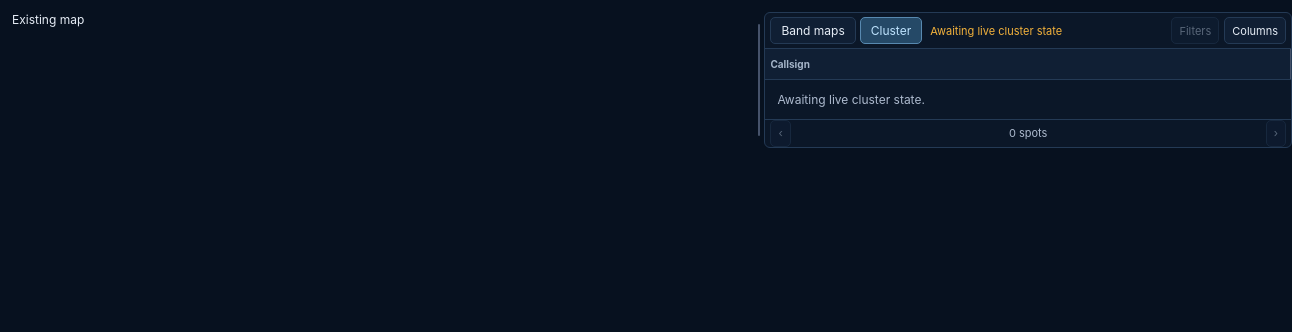
Test: operator workspace › keeps at least one visible column and allows restricted local storage
Click the button "Columns". click: click(1255, 30)
box: [1224, 17, 1286, 44]
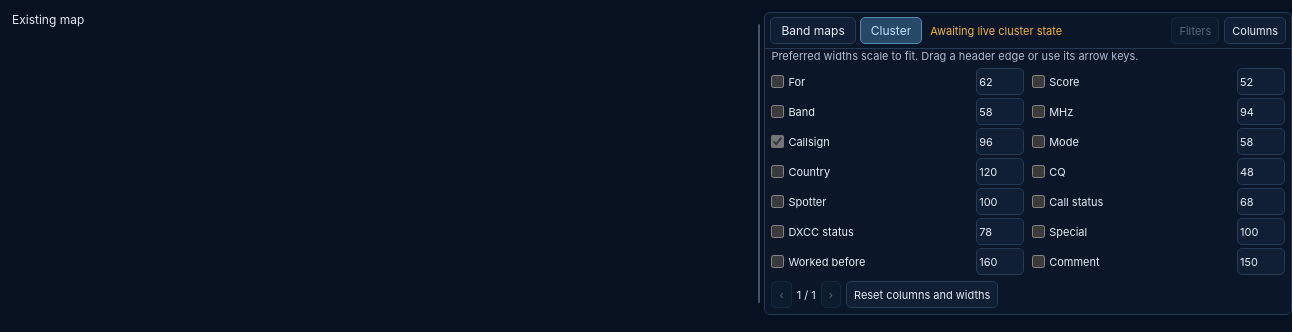
Now the checkbox named "Show Callsign column" is disabled, box [771, 128, 784, 155]
Click the button "Columns". click: click(1255, 30)
box: [1224, 17, 1286, 44]
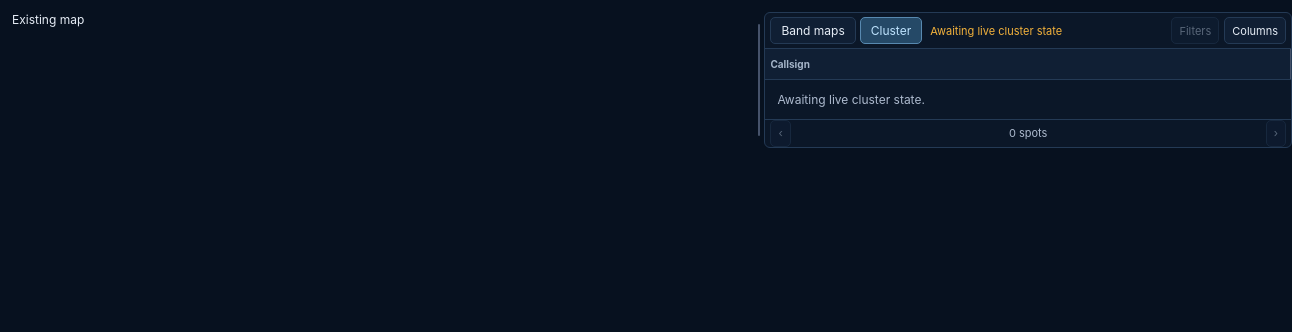
Now the text "Awaiting live cluster state." is shown, box [777, 92, 925, 106]
